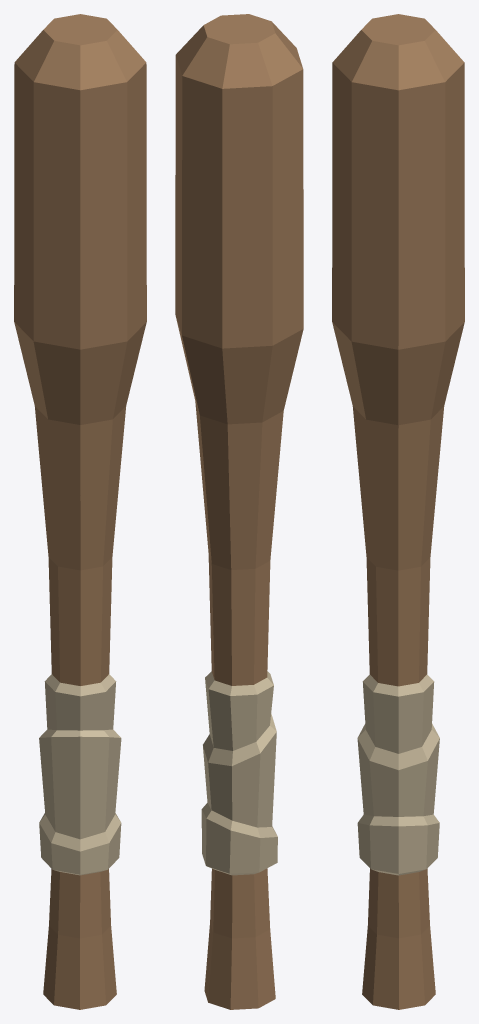
The model's file is SM_pwe_medieval_club_01c.fbx.
The picture shows the model from 3 angles, left to right: view 1: azimuth 90°, elevation 25°; view 2: azimuth 210°, elevation 25°; view 3: azimuth 270°, elevation 25°; orthographic projection.
Visible parts, largest first — view 1: SM_pwe_medieval_club_01c; view 2: SM_pwe_medieval_club_01c; view 3: SM_pwe_medieval_club_01c.
Boxes of the visible parts, x1,y1,x2,y2 form: SM_pwe_medieval_club_01c: [14, 14, 146, 1009]; SM_pwe_medieval_club_01c: [175, 14, 303, 1009]; SM_pwe_medieval_club_01c: [332, 14, 464, 1009].
Bounding box in the file's own units: 8.59 × 68.83 × 8.59.
